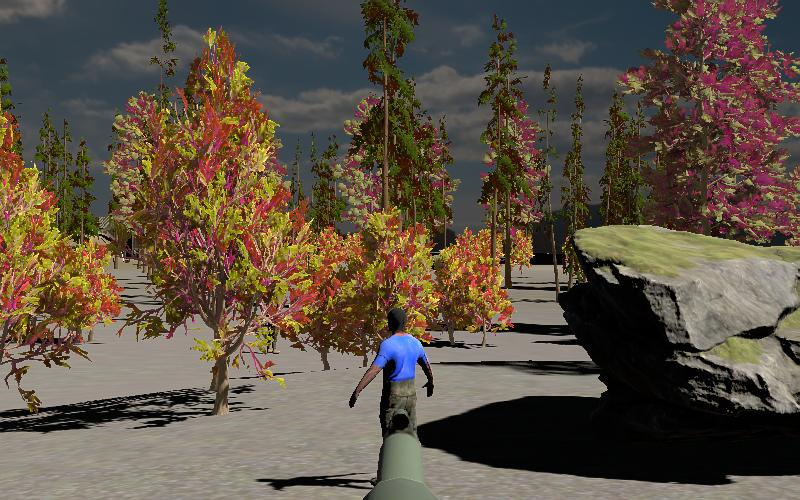Human: (347, 304, 436, 491)
